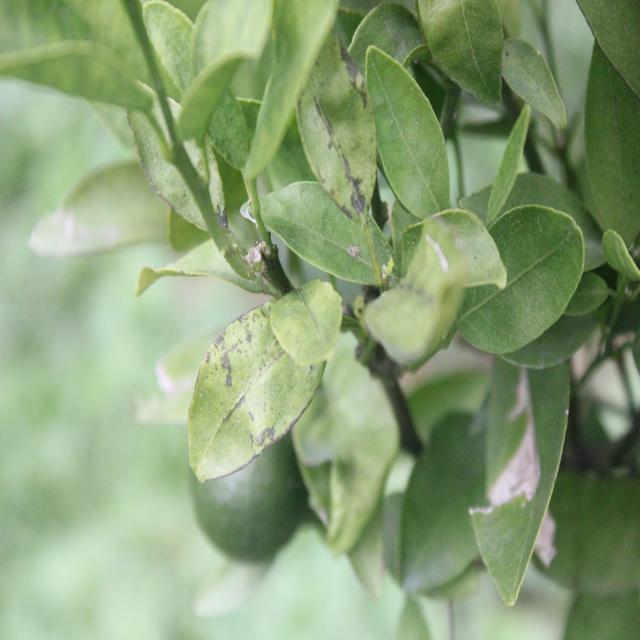blackspot: (197, 305, 285, 473), (299, 41, 378, 223)
